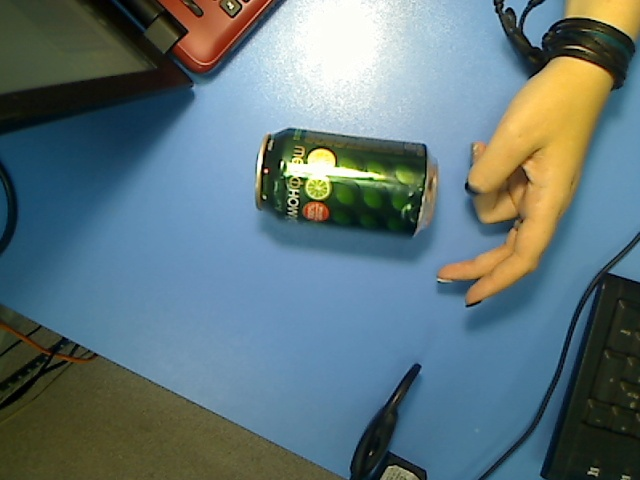can: (252, 127, 444, 240)
